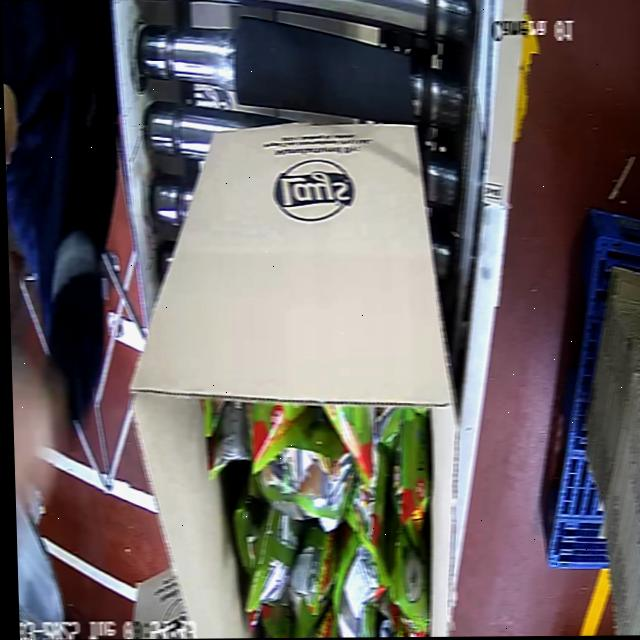YOGURT_HERB: (239, 406, 432, 638)
